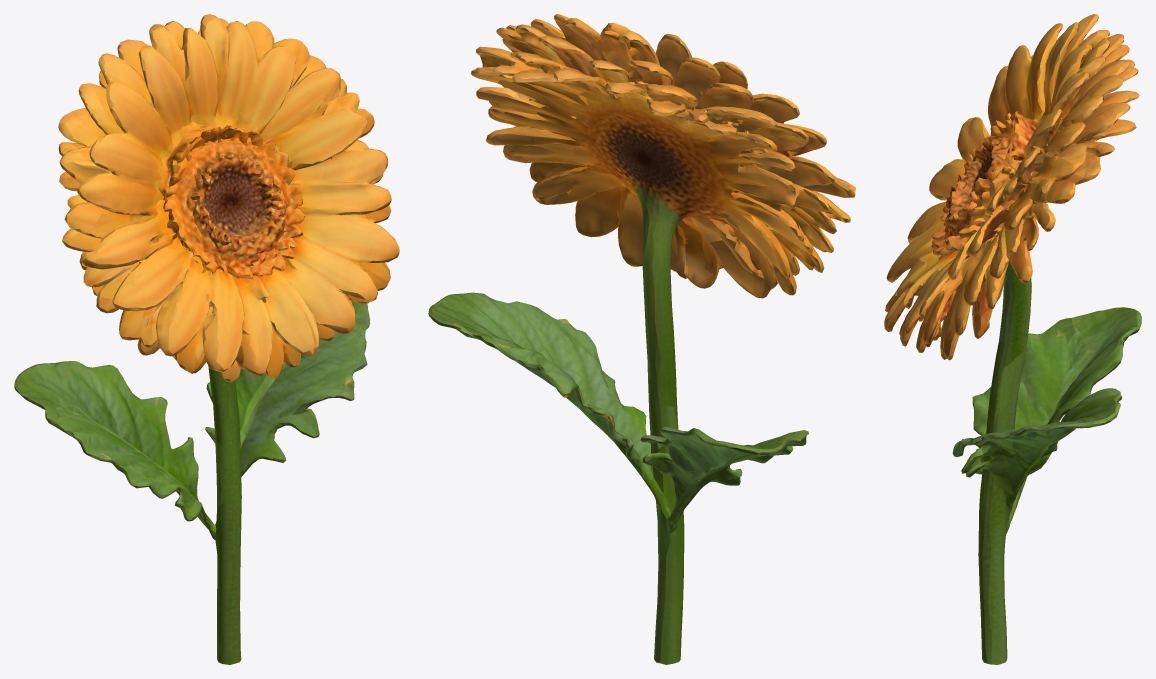
Rendered from lux-daisy.glb.
3 renders of one model, left to right at view 1: azimuth 30°, elevation 25°; view 2: azimuth 150°, elevation 25°; view 3: azimuth 270°, elevation 25°, orthographic. The views are drawn at different scales.
Parts seen in each view (by area): view 1: geometry_0; view 2: geometry_0; view 3: geometry_0.
Part boxes in pixels (x1=…): geometry_0: x1=14, y1=14, x2=399, y2=664; geometry_0: x1=428, y1=14, x2=855, y2=664; geometry_0: x1=884, y1=14, x2=1141, y2=664.
Size of the model in its own units: 0.2527 by 0.45 by 0.1695.
Materials: 1 (1 with a texture image).
